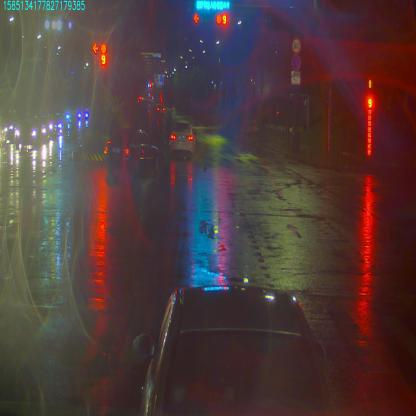traffic-light: (194, 1, 233, 11), (216, 14, 227, 26), (192, 12, 199, 23)
